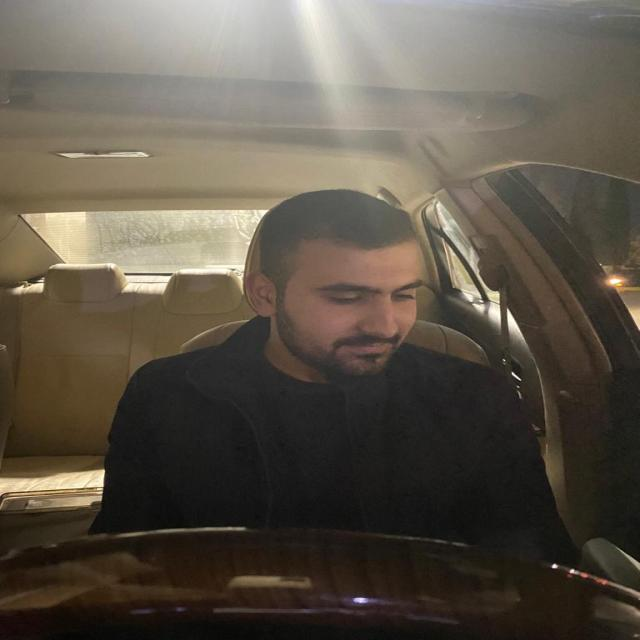drowsy: (261, 205, 427, 377)
